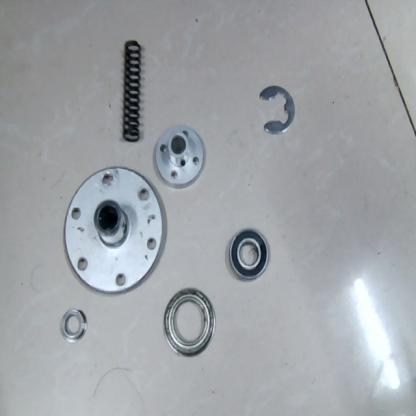FOD: (62, 166, 164, 296), (160, 288, 218, 360), (153, 124, 207, 188), (120, 36, 145, 148), (228, 228, 271, 281), (256, 85, 297, 138), (60, 307, 90, 346)
